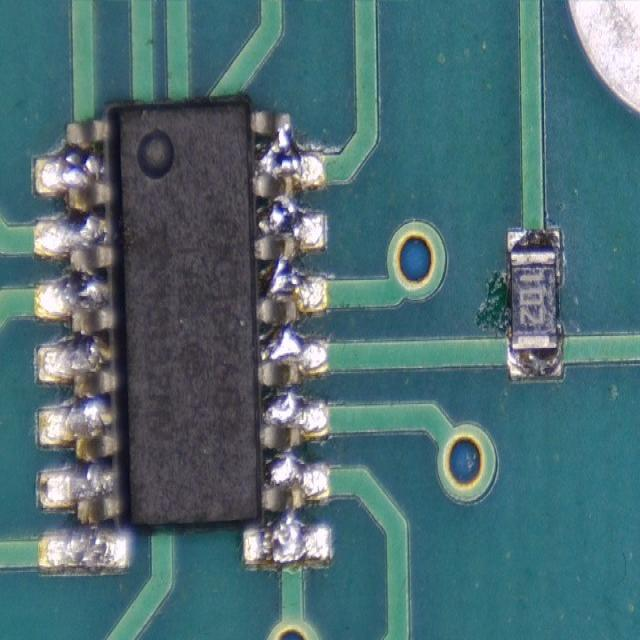Incorrect_installation: (33, 95, 330, 573)
Short_circuit: (33, 120, 128, 575), (242, 110, 331, 565)
